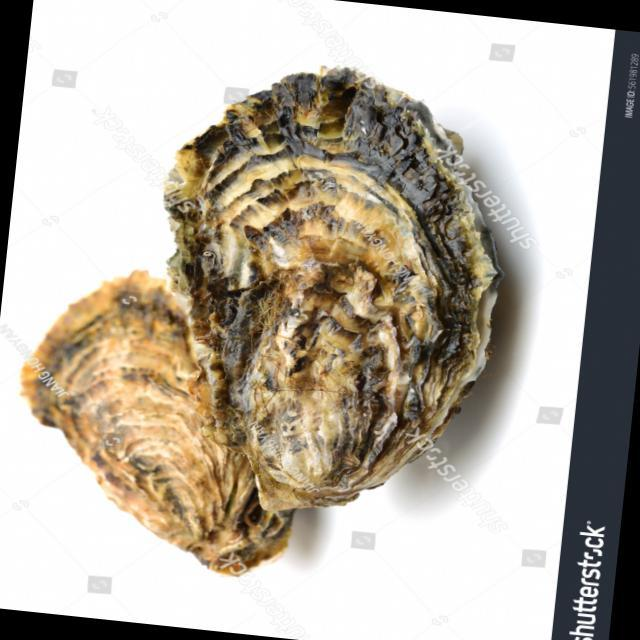Oyster- Indeterminate: (162, 79, 501, 515), (21, 271, 293, 578)
